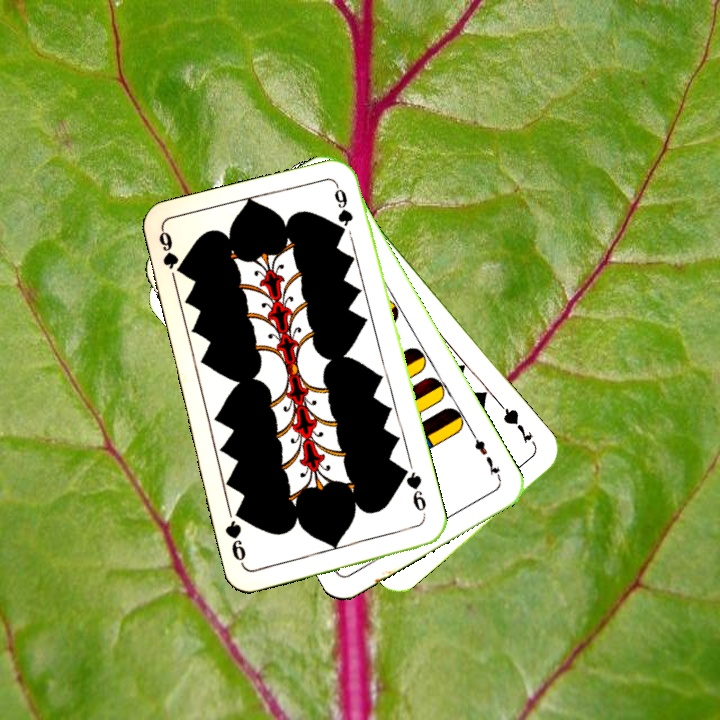E7: (468, 429, 504, 483)
G7: (496, 401, 535, 446)
G9: (399, 465, 429, 521), (155, 227, 184, 276)
